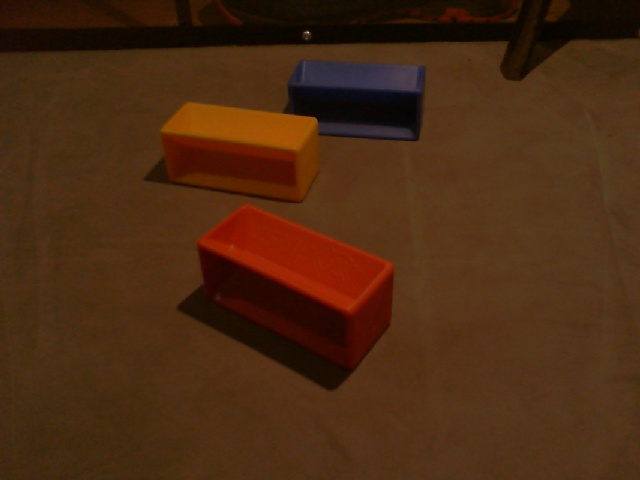BlueSample: (286, 58, 426, 144)
RedSample: (195, 201, 397, 371)
YellowSample: (159, 101, 322, 204)
